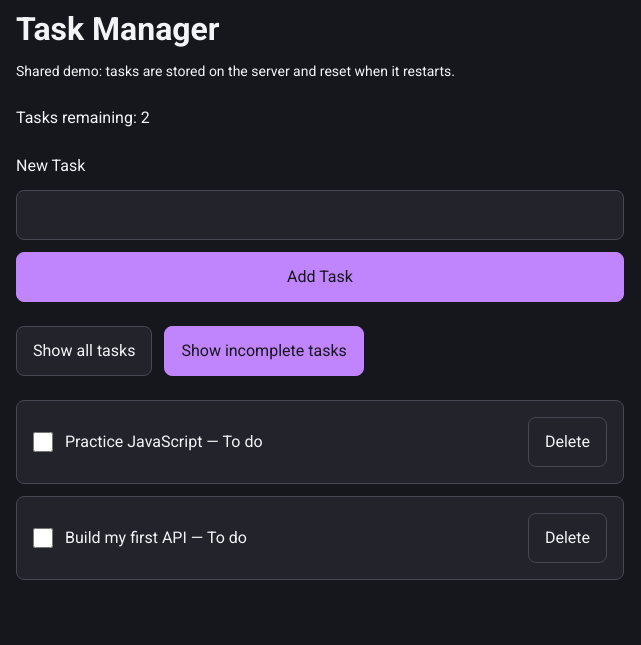
Test case: keeps the original status when PATCH fails: HTTP
Check: the field labelled "New Task" is enabled, box [16, 190, 624, 240]
Click the checkbox named "Practice JavaScript" at (43,442), box [33, 432, 53, 452]
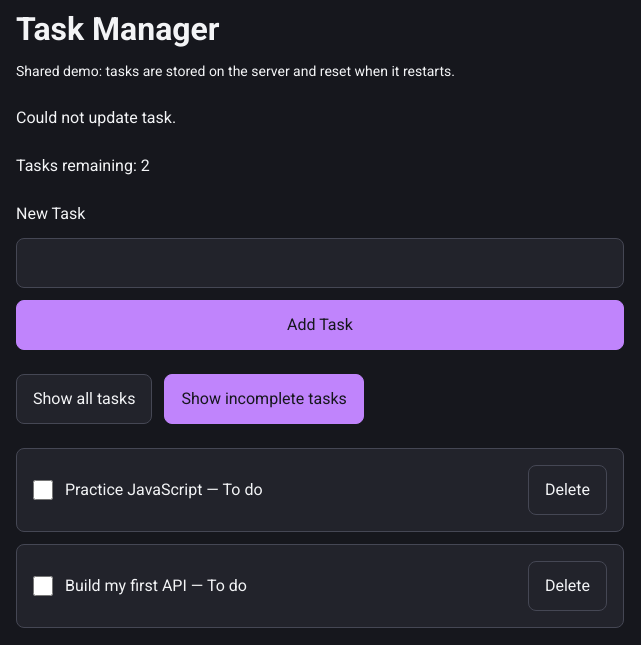
Check: the checkbox named "Practice JavaScript" is not checked, box [33, 480, 53, 500]
Check: the message reads "Could not update task.", box [16, 108, 176, 127]
